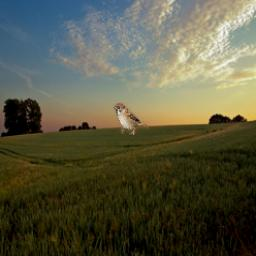Sparrow: (115, 103, 151, 135)
